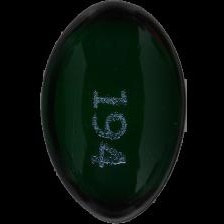61786-581: (0, 0, 224, 224)
